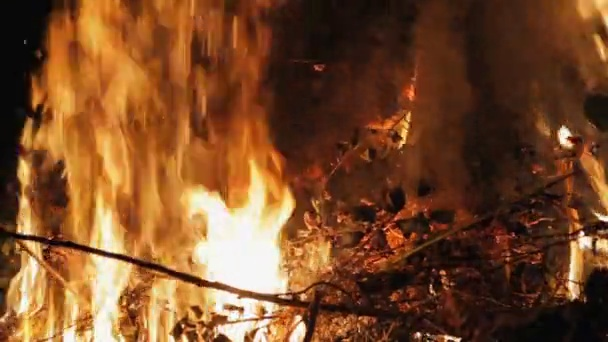fire: (3, 1, 306, 342), (585, 156, 608, 261), (568, 242, 584, 298), (558, 125, 571, 147)
